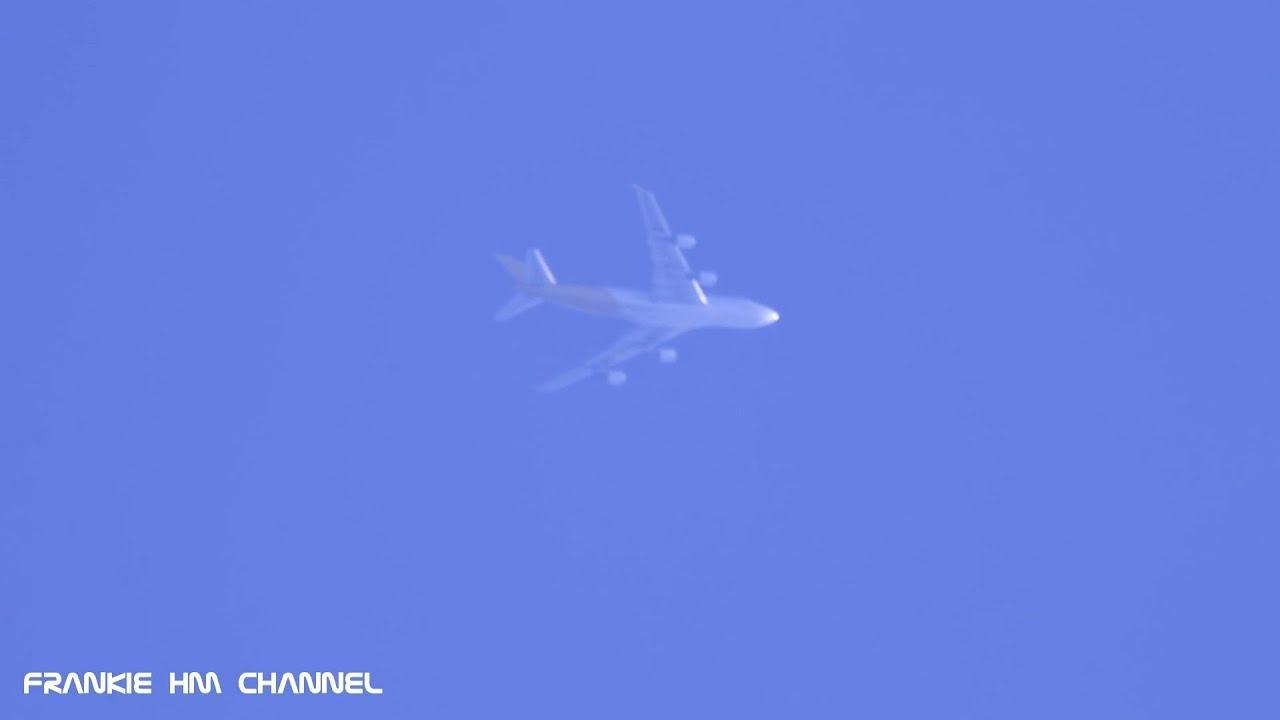Plane: (420, 167, 852, 426)
